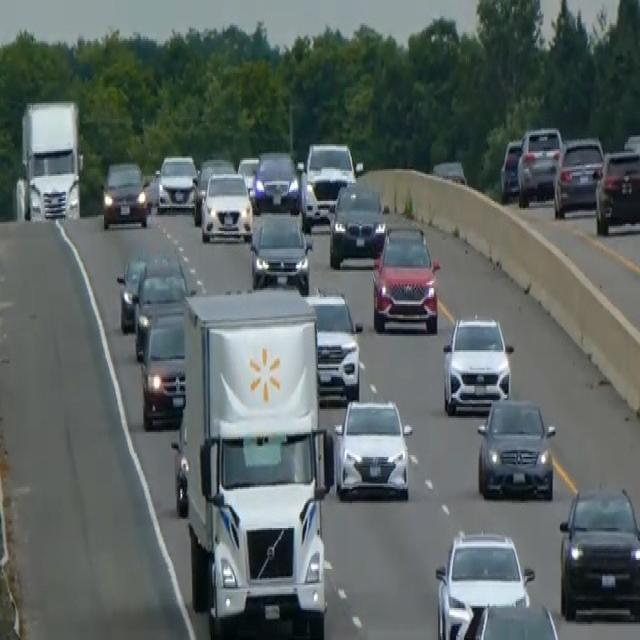car: (558, 482, 639, 622), (434, 526, 534, 638), (476, 394, 556, 500), (332, 394, 412, 500), (371, 222, 440, 334), (441, 311, 513, 414), (304, 288, 361, 402), (137, 306, 186, 430), (132, 254, 187, 356), (248, 208, 310, 292), (328, 178, 385, 266), (552, 133, 604, 219), (304, 140, 358, 222), (462, 598, 563, 638), (594, 146, 639, 234), (200, 169, 253, 242), (516, 124, 563, 204), (101, 158, 149, 230), (191, 155, 235, 224), (252, 150, 300, 213), (156, 153, 198, 211), (116, 255, 147, 332), (499, 137, 522, 199), (236, 155, 260, 197), (432, 158, 466, 185)
lorry: (172, 284, 332, 636)
